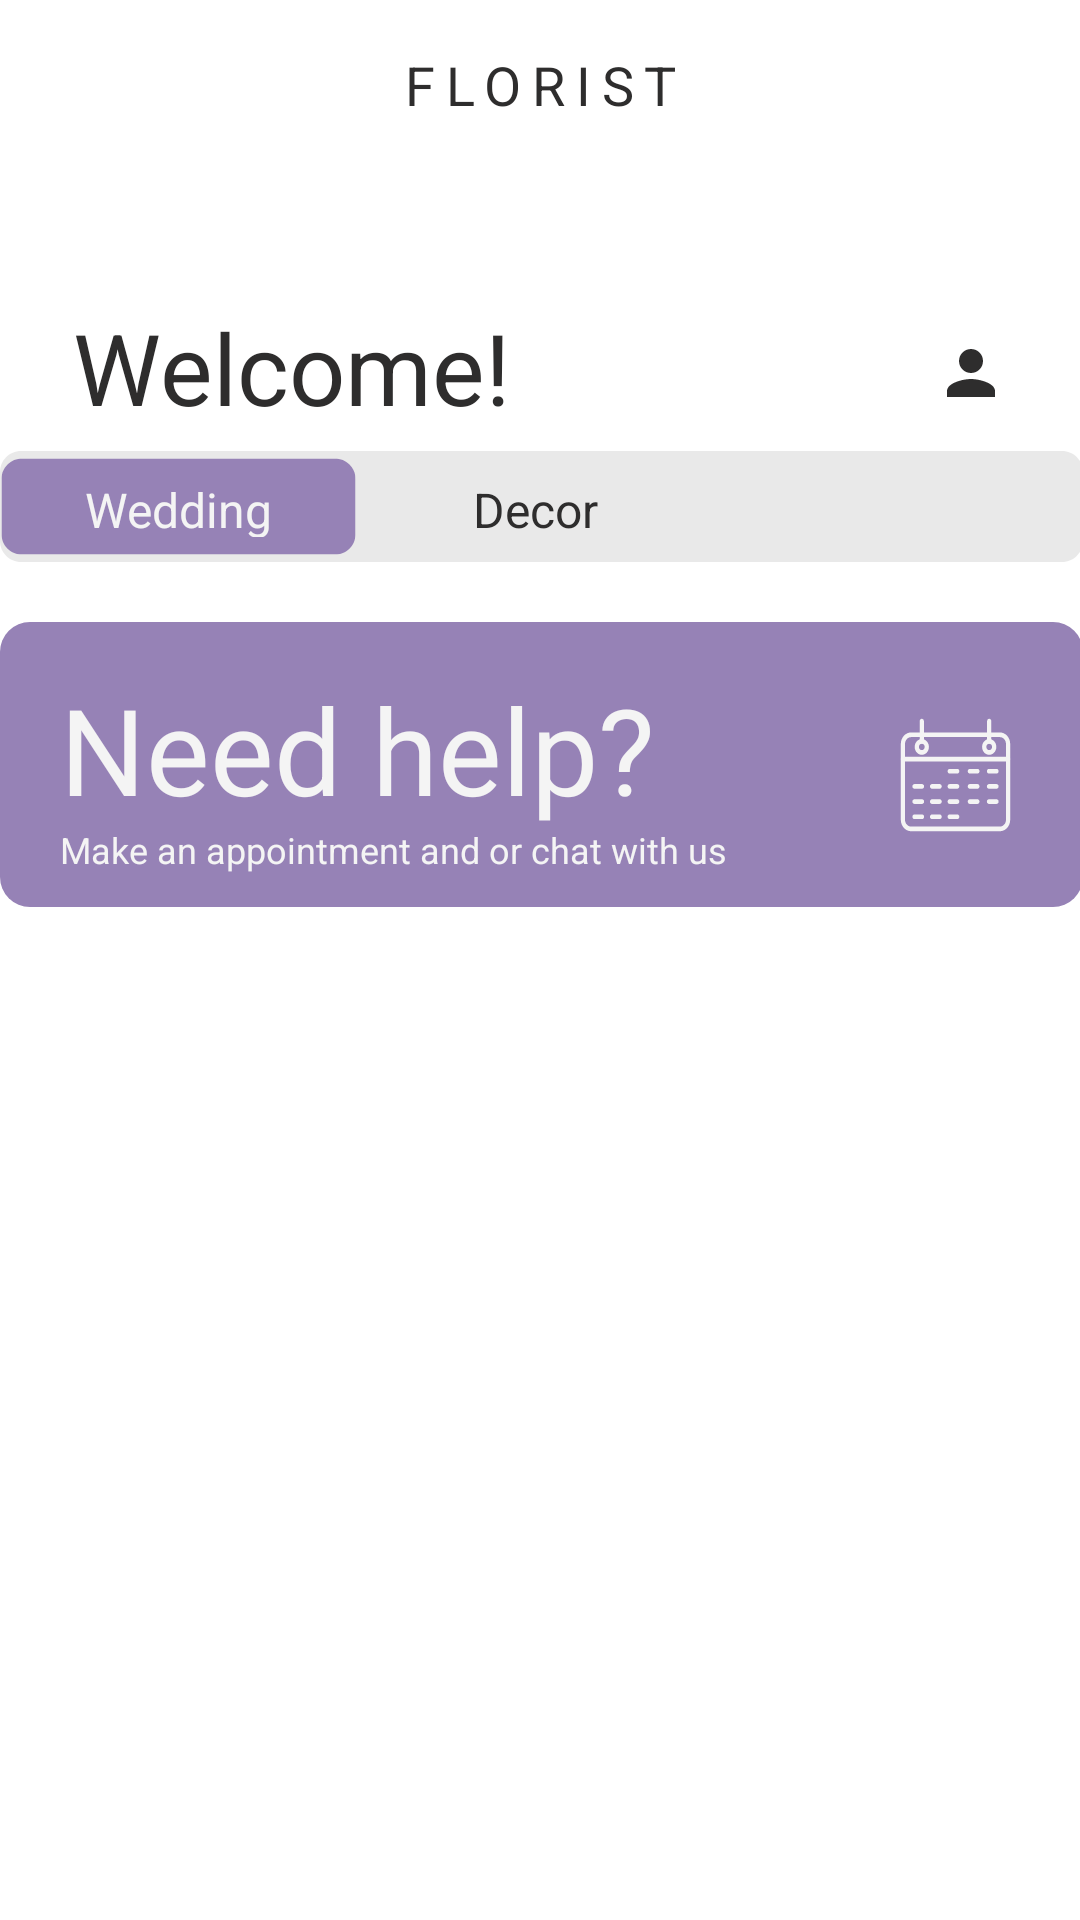

Point at icon controls on the screen. Image size 1080w x 1920h, points as [x,y].
calender: [955,775]
person: [971,373]
